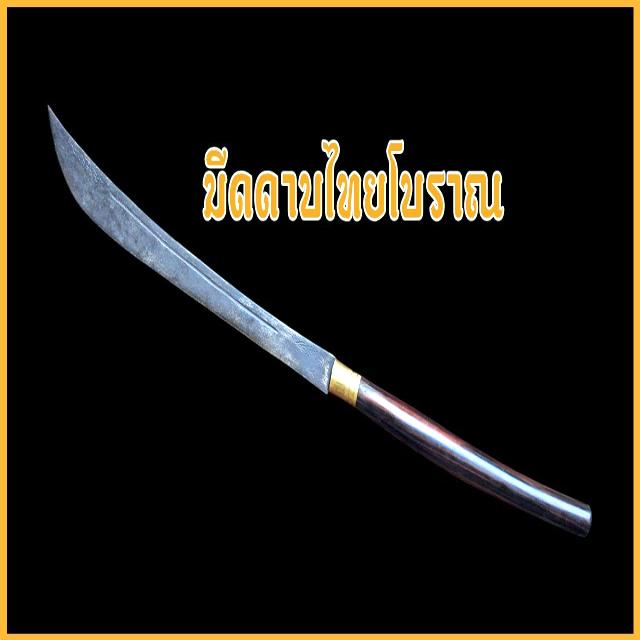long sword: (44, 97, 594, 530)
